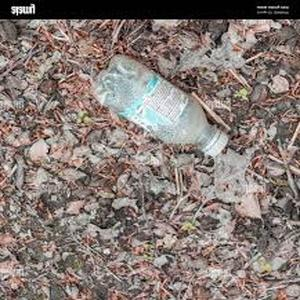Plastic: (92, 52, 228, 158)
